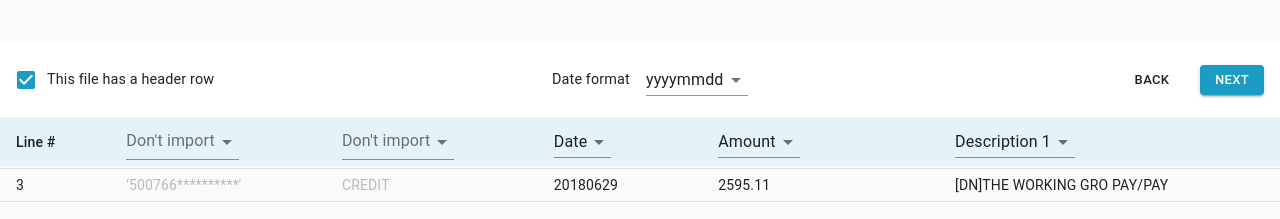
Test case: CsvColumnSelection › should change the date format
This screenshot has width=1280, height=219.
Expected: the label with test id "dateFormatInput" holds "yyyymmdd", x1=552 y1=64 x2=748 y2=96
Click the button with test id "dateFormatDropdown".
click(685, 80)  # box x1=646 y1=70 x2=724 y2=89
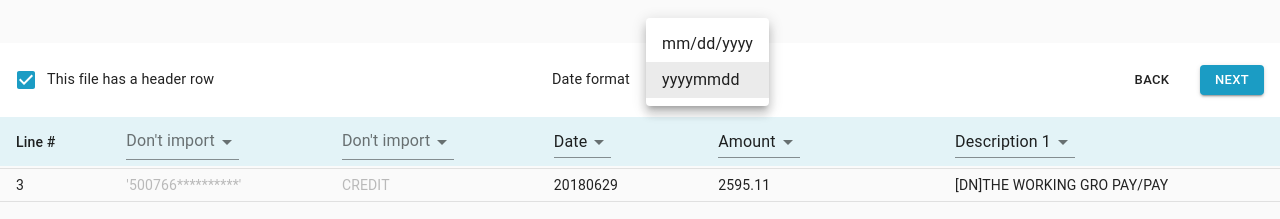
Click the option "mm/dd/yyyy".
click(708, 44)  # box x1=662 y1=34 x2=753 y2=53
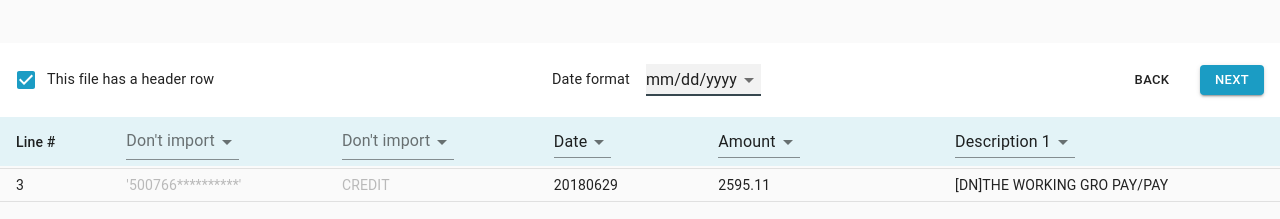
Expected: the label with test id "dateFormatInput" holds "mm/dd/yyyy", x1=552 y1=64 x2=761 y2=96
Expected: the button with test id "dateFormatDropdown" reads "mm/dd/yyyy", x1=646 y1=64 x2=761 y2=96
